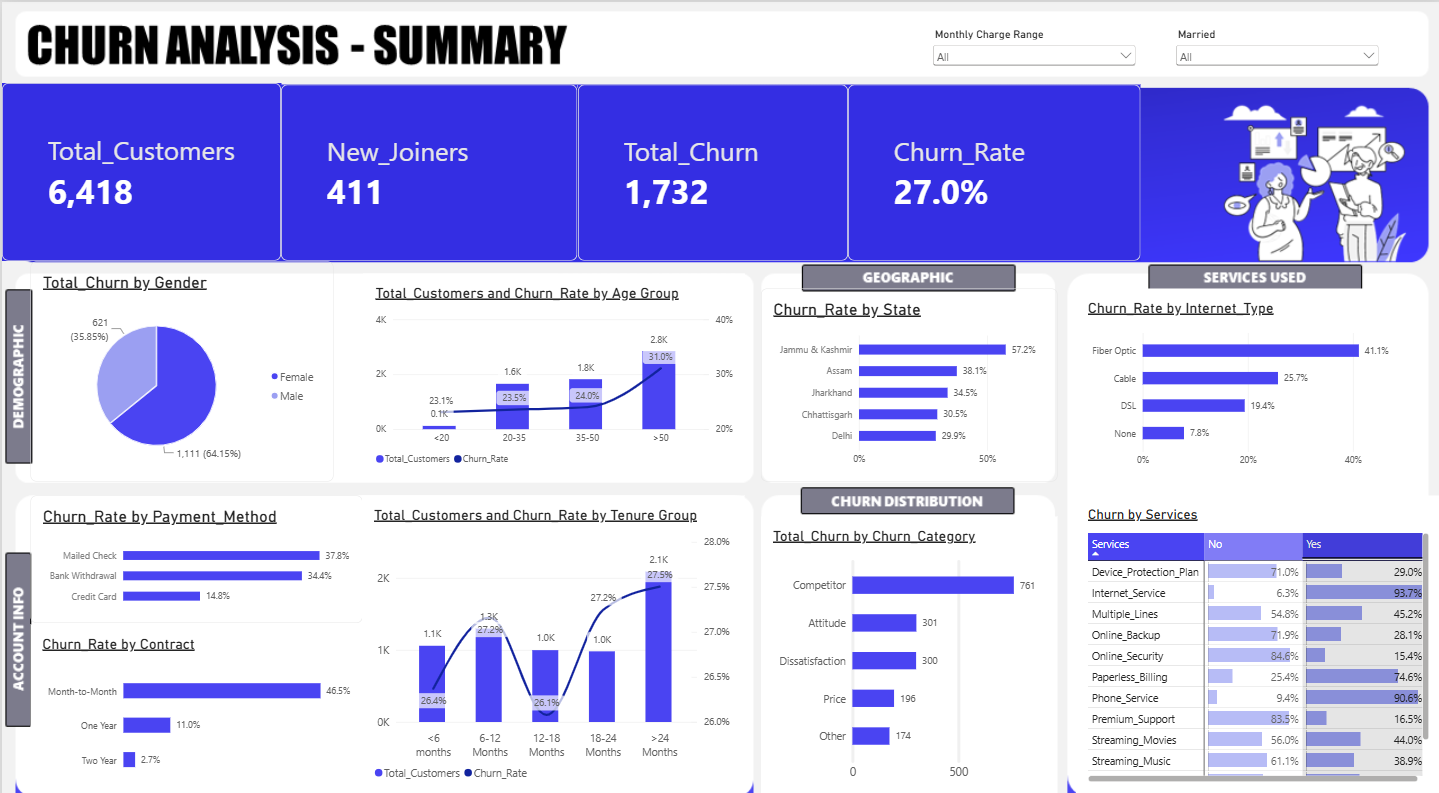

The page's visual inventory and layout, read from the dashboard file:
{"tool":"powerbi","page":{"name":"Summary","canvas":[1920,1080],"ordinal":0},"visuals":[{"type":"cardVisual","fields":{"Data":["tbl_Measures.Total_Customers"]},"box":[0,107.5,372.5,237.5],"z":0},{"type":"cardVisual","fields":{"Data":["tbl_Measures.New_Joiners"]},"box":[372.5,110,395,235],"z":1000},{"type":"cardVisual","fields":{"Data":["tbl_Measures.Total_Churn"]},"box":[767.5,110,360,235],"z":2000},{"type":"cardVisual","fields":{"Data":["tbl_Measures.Churn_Rate"]},"box":[1127.5,110,390,235],"z":3000},{"type":"pieChart","title":"Total_Churn by Gender","fields":{"Category":["prod_Churn.Gender"],"Y":["tbl_Measures.Total_Churn"]},"box":[38.7,345.7,403.7,293.1],"z":4000},{"type":"lineStackedColumnComboChart","fields":{"Category":["mapping_AgeGrp.Age Group"],"Y":["tbl_Measures.Total_Customers"],"Y2":["tbl_Measures.Churn_Rate"]},"box":[481.2,362.2,508.8,276.5],"z":5000},{"type":"clusteredBarChart","fields":{"Category":["prod_Churn.Payment_Method"],"Y":["tbl_Measures.Churn_Rate"]},"box":[37.5,657.5,442.5,170],"z":6000},{"type":"clusteredBarChart","fields":{"Category":["prod_Churn.Contract"],"Y":["tbl_Measures.Churn_Rate"]},"box":[37.5,830,442.5,227.5],"z":7000},{"type":"lineStackedColumnComboChart","fields":{"Category":["mapping_TenureGrp.Tenure Group"],"Y":["tbl_Measures.Total_Customers"],"Y2":["tbl_Measures.Churn_Rate"]},"box":[480,657.5,510,400],"z":8000},{"type":"clusteredBarChart","fields":{"Category":["prod_Churn.Churn_Category"],"Y":["tbl_Measures.Total_Churn"]},"box":[1012.5,685,395,372.5],"z":10000},{"type":"clusteredBarChart","fields":{"Category":["prod_Churn.Internet_Type"],"Y":["tbl_Measures.Churn_Rate"]},"box":[1432.5,382.5,467.5,257.5],"z":11000},{"type":"pivotTable","title":"Churn by Services","fields":{"Columns":["prod_Services.Status"],"Rows":["prod_Services.Services"],"Values":["Sum(prod_Services.Churn Status)"]},"box":[1432.4,658.1,486.7,398.2],"z":12000},{"type":"slicer","fields":{"Values":["prod_Services.Monthly Charge Status"]},"box":[1236.7,33.3,280,86.7],"z":13000},{"type":"slicer","fields":{"Values":["prod_Services.Married"]},"box":[1560,33.3,280,75],"z":14000},{"type":"clusteredBarChart","fields":{"Category":["prod_Churn.State"],"Y":["tbl_Measures.Churn_Rate"]},"box":[1012.1,381.6,395.4,257.2],"z":14001}]}

Visuals, with their boxes in screenshot pixels (x1, y1, x2, y2), scaled from the page's 1920x1080 canvas onto the 1439x793 screenshot:
cardVisual - tbl_Measures.Total_Customers: bbox=[0, 79, 279, 253]
cardVisual - tbl_Measures.New_Joiners: bbox=[279, 81, 575, 253]
cardVisual - tbl_Measures.Total_Churn: bbox=[575, 81, 845, 253]
cardVisual - tbl_Measures.Churn_Rate: bbox=[845, 81, 1137, 253]
"Total_Churn by Gender" pieChart: bbox=[29, 254, 332, 469]
lineStackedColumnComboChart - mapping_AgeGrp.Age Group x tbl_Measures.Total_Customers: bbox=[361, 266, 742, 469]
clusteredBarChart - prod_Churn.Payment_Method x tbl_Measures.Churn_Rate: bbox=[28, 483, 360, 608]
clusteredBarChart - prod_Churn.Contract x tbl_Measures.Churn_Rate: bbox=[28, 609, 360, 776]
lineStackedColumnComboChart - mapping_TenureGrp.Tenure Group x tbl_Measures.Total_Customers: bbox=[360, 483, 742, 776]
clusteredBarChart - prod_Churn.Churn_Category x tbl_Measures.Total_Churn: bbox=[759, 503, 1055, 776]
clusteredBarChart - prod_Churn.Internet_Type x tbl_Measures.Churn_Rate: bbox=[1074, 281, 1424, 470]
"Churn by Services" pivotTable: bbox=[1074, 483, 1438, 776]
slicer - prod_Services.Monthly Charge Status: bbox=[927, 24, 1137, 88]
slicer - prod_Services.Married: bbox=[1169, 24, 1379, 80]
clusteredBarChart - prod_Churn.State x tbl_Measures.Churn_Rate: bbox=[759, 280, 1055, 469]
